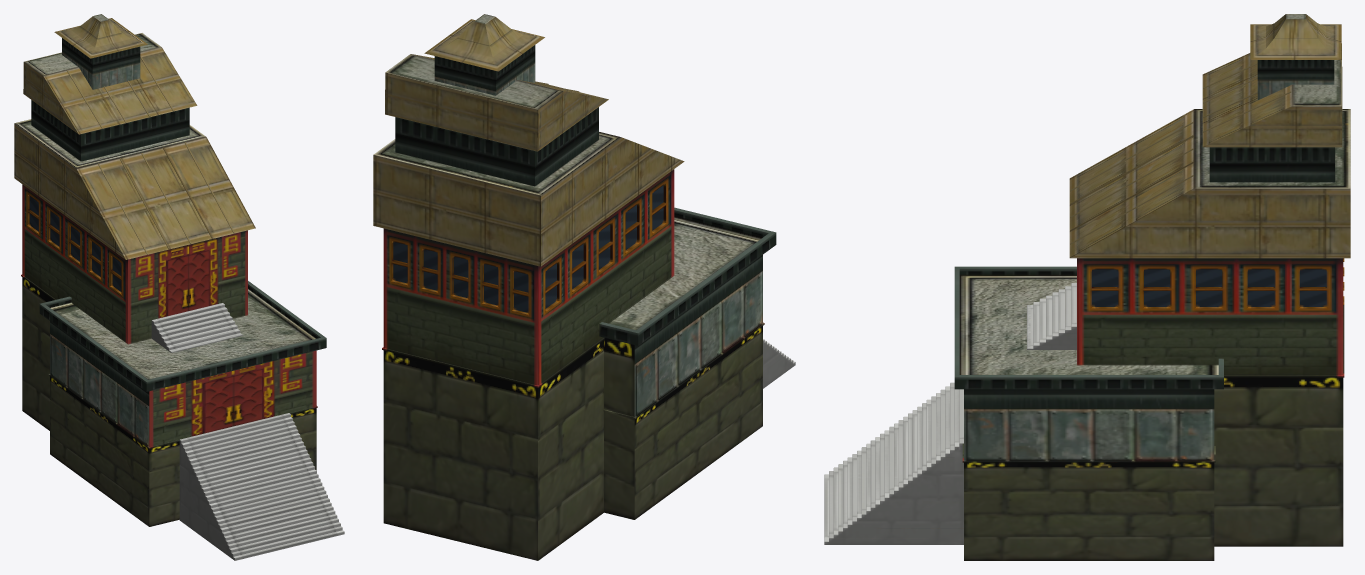
The model's file is l_palacecore_cad.glb.
3 renders of one model, left to right at view 1: azimuth 30°, elevation 25°; view 2: azimuth 150°, elevation 25°; view 3: azimuth 270°, elevation 25°, orthographic. The views are drawn at different scales.
Parts seen in each view (by area): view 1: palace_core; view 2: palace_core; view 3: palace_core.
Part boxes in pixels (x1=…): palace_core: x1=14, y1=14, x2=344, y2=560; palace_core: x1=373, y1=14, x2=795, y2=560; palace_core: x1=824, y1=14, x2=1350, y2=560.
Size of the model in its own units: 22.43 by 46.72 by 45.12.
Materials: 1 (1 with a texture image).
